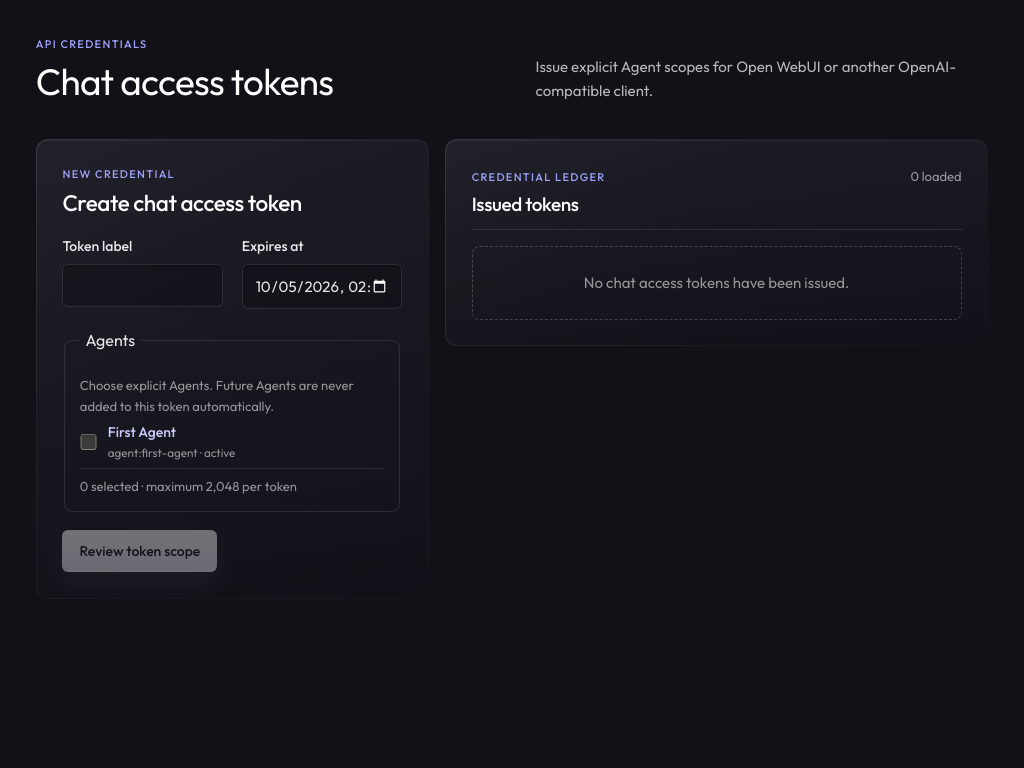
Test case: issuance failure is rendered without an unhandled rejection and keeps the review available
Type "Failure case" into the field labelled "Token label" at x=143, y=286, box [62,264,223,307]
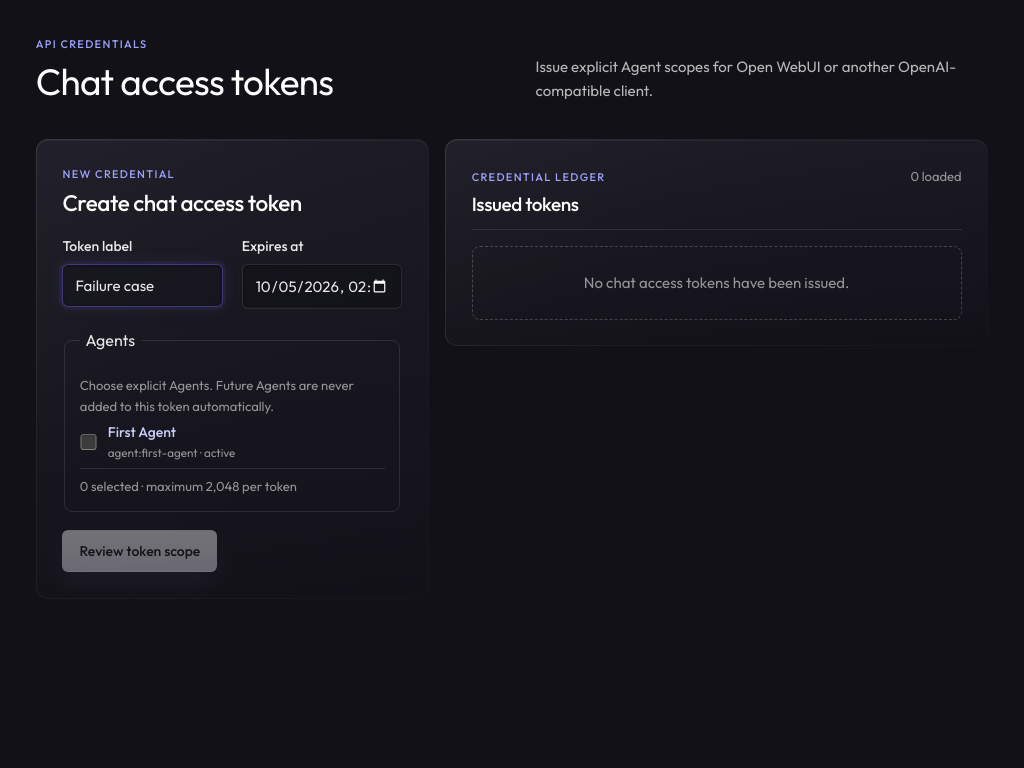
Click the checkbox labelled "First Agent agent:first-agent · active" at x=88, y=442, box [80,434,97,450]
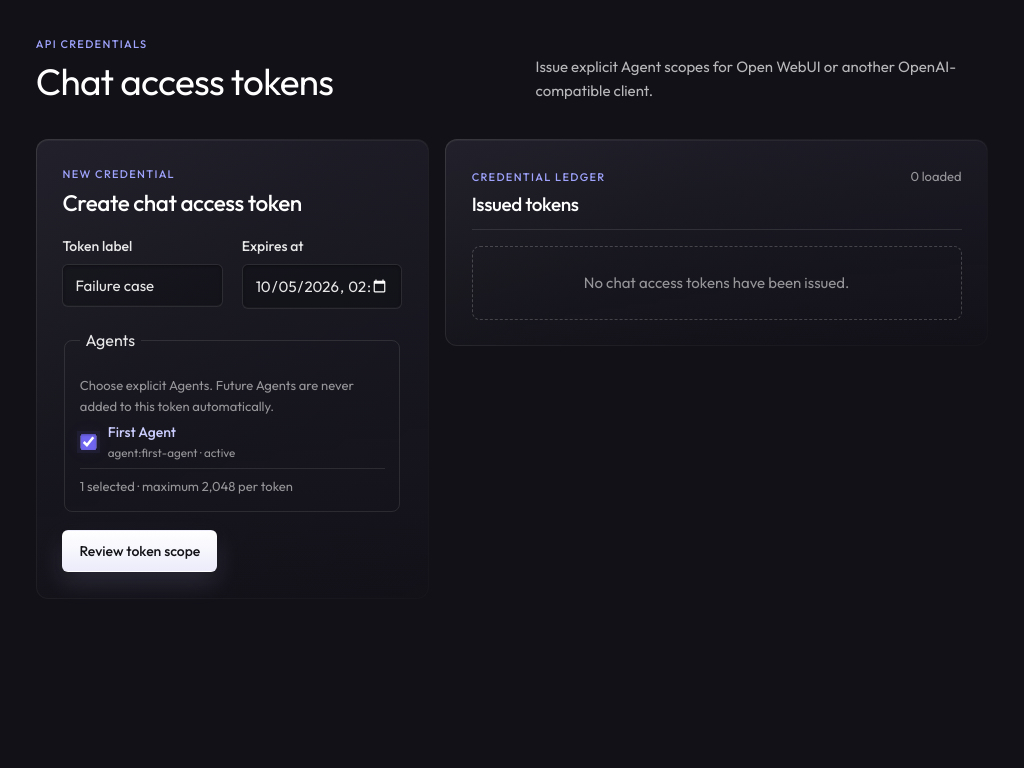
Click the button "Review token scope" at x=140, y=551, box [62,530,217,572]
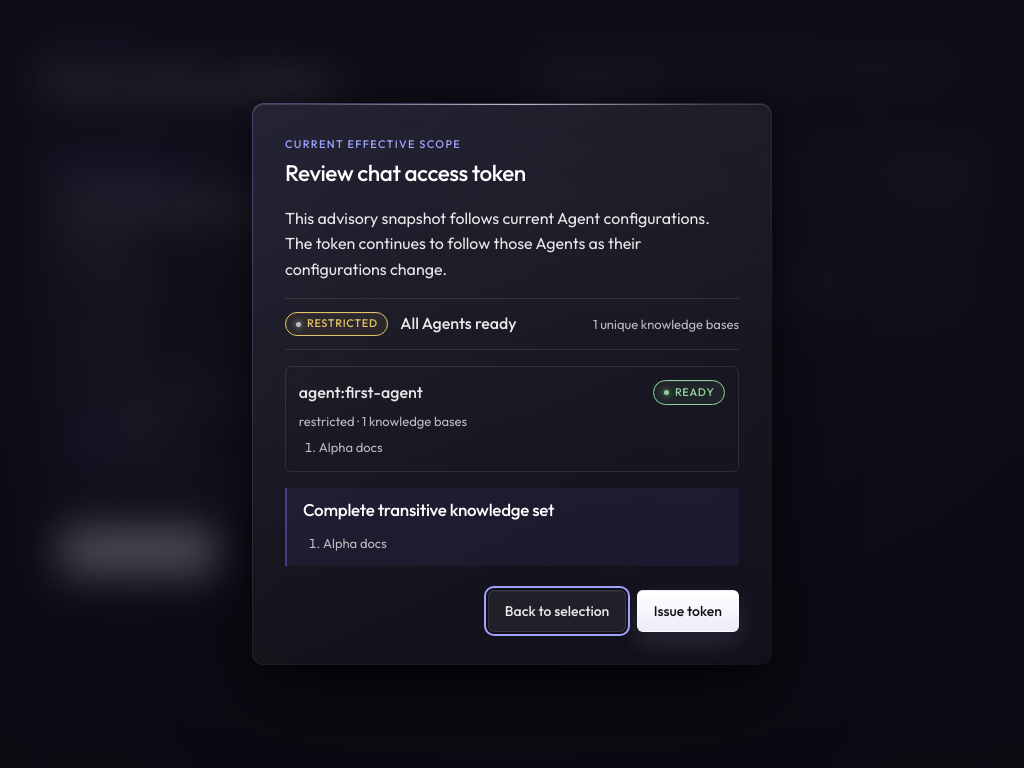
Expected: the heading "Review chat access token" is shown, [285,158,526,187]
Click the button "Issue token" at x=688, y=611, box [637,590,739,632]
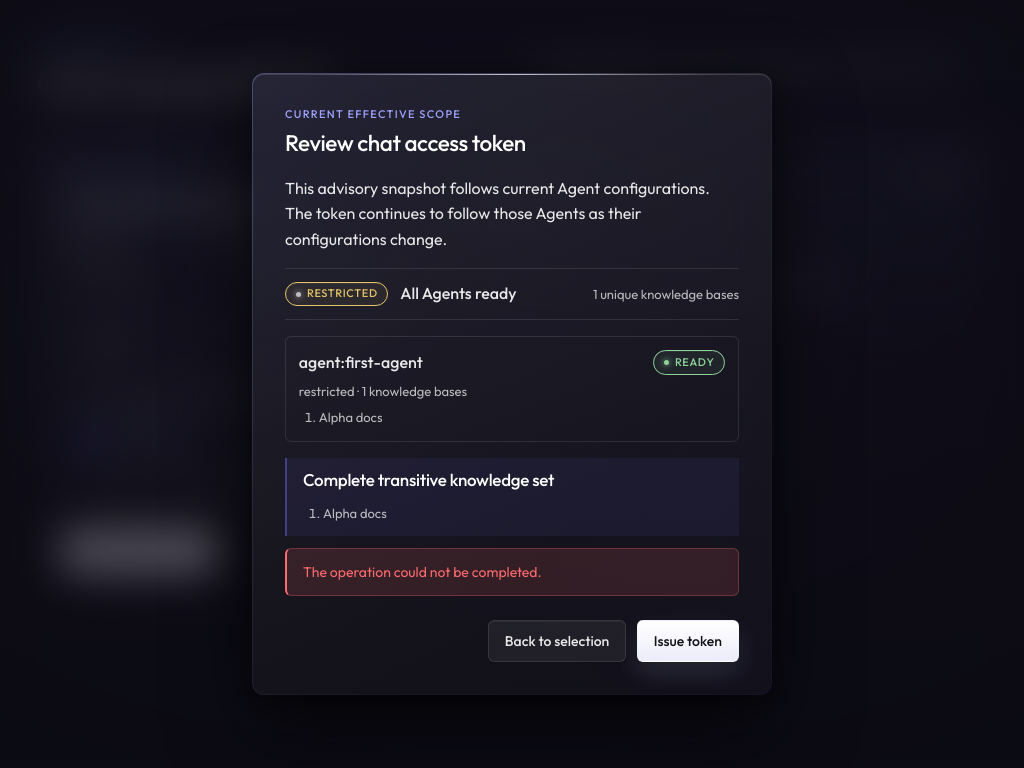
Expected: the heading "Review chat access token" is shown, [285,128,526,157]
Expected: the message reads "The operation could not be completed.", [303,562,542,580]
